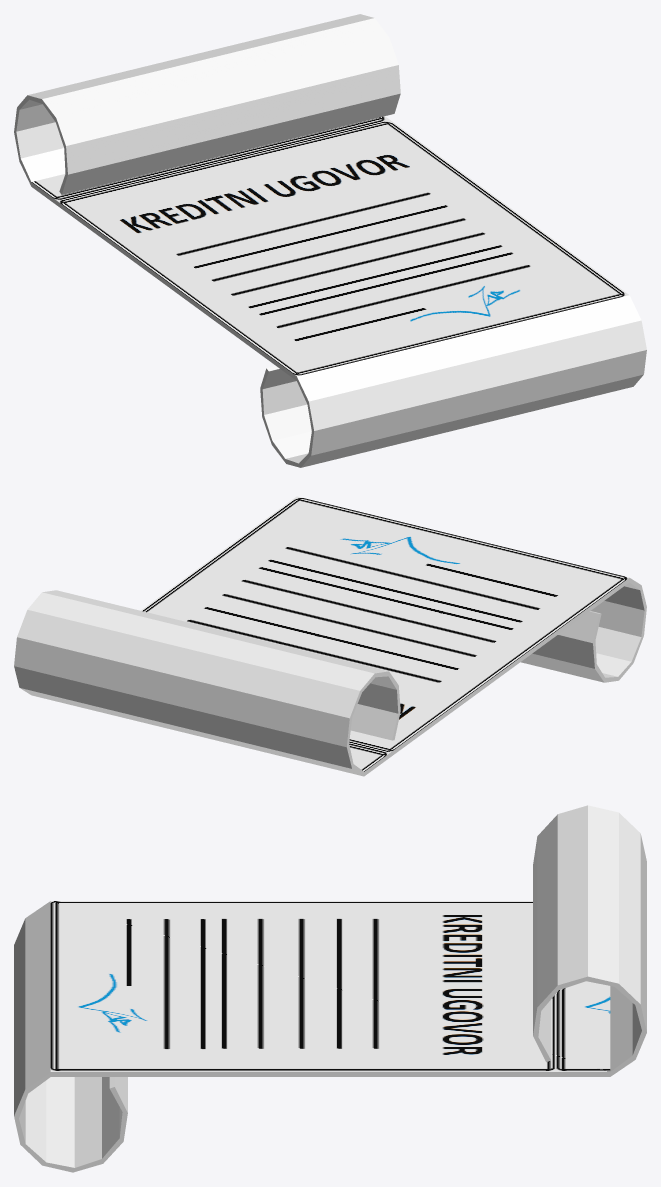
Rendered from Contract.fbx.
The picture shows the model from 3 angles, top to bottom: view 1: azimuth 30°, elevation 25°; view 2: azimuth 150°, elevation 25°; view 3: azimuth 270°, elevation 25°; orthographic projection. The views are drawn at different scales.
Parts seen in each view (by area): view 1: Cube; view 2: Cube; view 3: Cube.
Part boxes in pixels (<box>): Cube: <box>14,14,646,467</box>; Cube: <box>14,496,646,776</box>; Cube: <box>14,805,646,1172</box>.
Bounding box in the file's own units: 320 × 171 × 500.
1 material, 1 textured.
